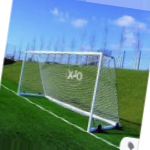goals: (16, 50, 121, 134)
